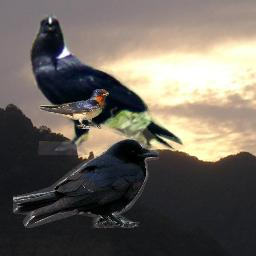Crow: (28, 14, 185, 155), (13, 138, 159, 228)
Swallow: (39, 89, 109, 129)
